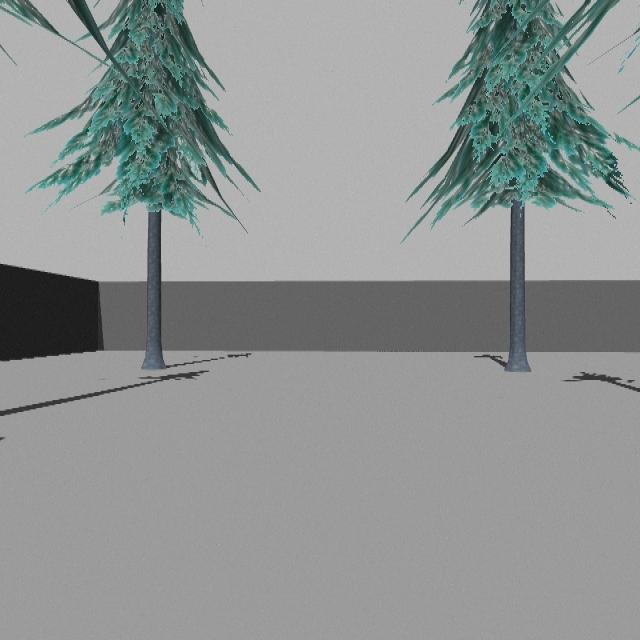tree: (26, 0, 261, 372), (410, 0, 634, 373)
